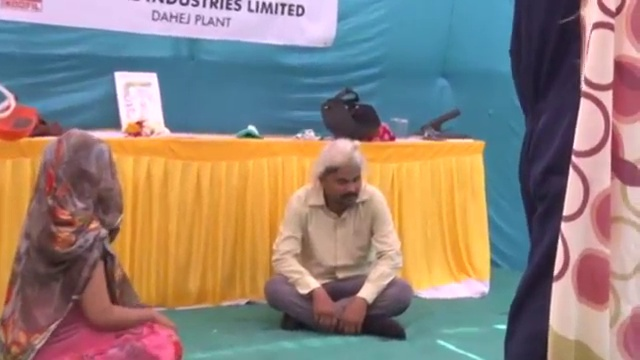helmet_off: (46, 135, 118, 209), (316, 142, 364, 210)
person: (1, 128, 185, 360), (263, 138, 414, 338), (504, 1, 586, 360)
